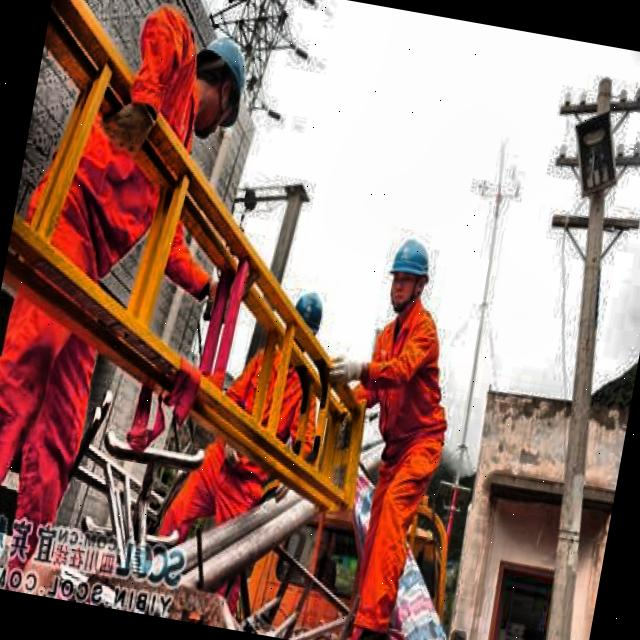helmet: (180, 16, 258, 140), (378, 227, 441, 320), (282, 290, 326, 356)
